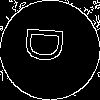D: (25, 25, 73, 64)
